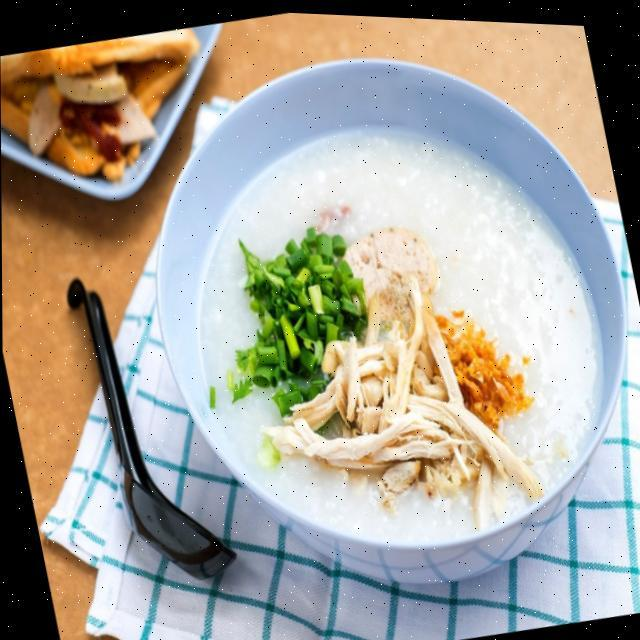bubur ayam: (161, 80, 640, 592)
mangkuk: (114, 5, 640, 638)
